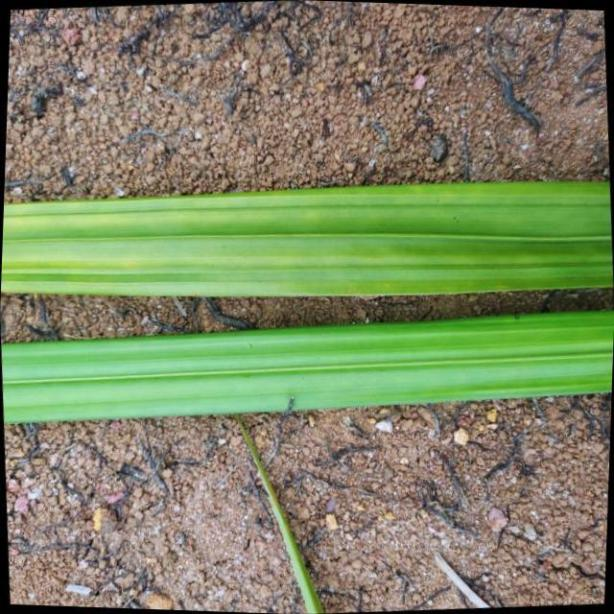nitrogen: (0, 179, 614, 302), (1, 300, 614, 419)
